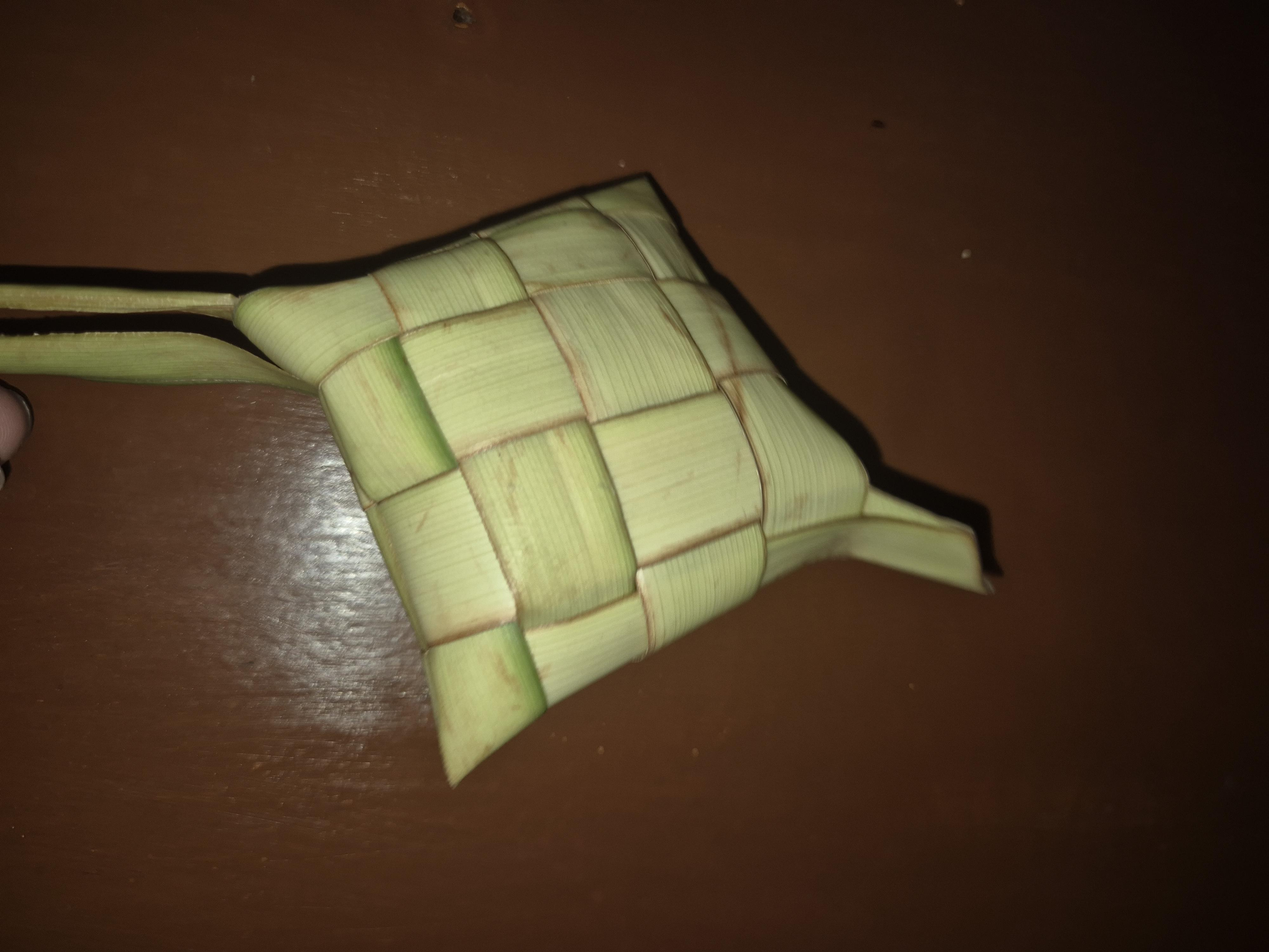Tipat Nasi: (234, 176, 1026, 650)
